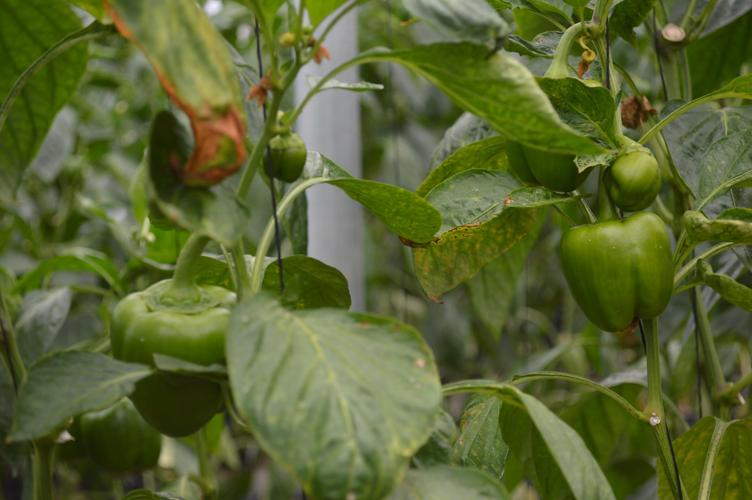BellPepper: (109, 285, 232, 429), (557, 215, 668, 329), (73, 404, 161, 466), (504, 129, 586, 191), (599, 147, 660, 219)
